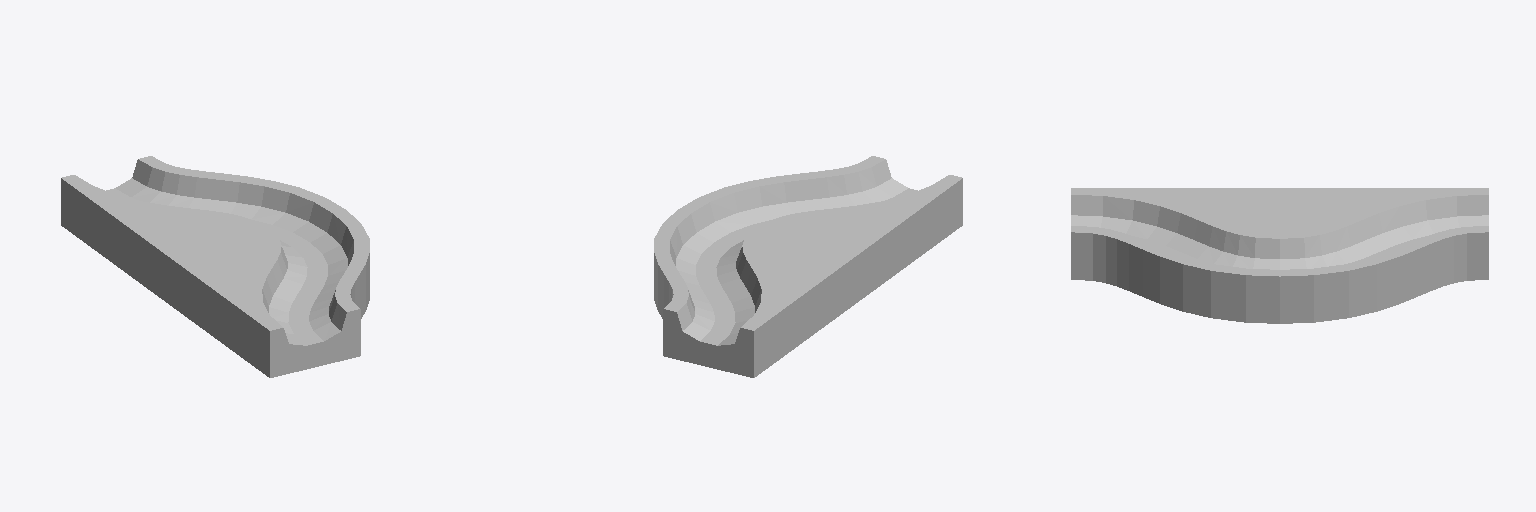
The model's file is wave-solid-c.obj.
3 renders of one model, left to right at view 1: azimuth 30°, elevation 25°; view 2: azimuth 150°, elevation 25°; view 3: azimuth 270°, elevation 25°, orthographic.
Parts seen in each view (by area): view 1: wave-solid-c; view 2: wave-solid-c; view 3: wave-solid-c.
Part boxes in pixels (left/top/right/bottom): wave-solid-c: left=61, top=156, right=369, bottom=377; wave-solid-c: left=654, top=156, right=962, bottom=377; wave-solid-c: left=1071, top=188, right=1488, bottom=323.
Size of the model in its own units: 2 by 0.5 by 4.